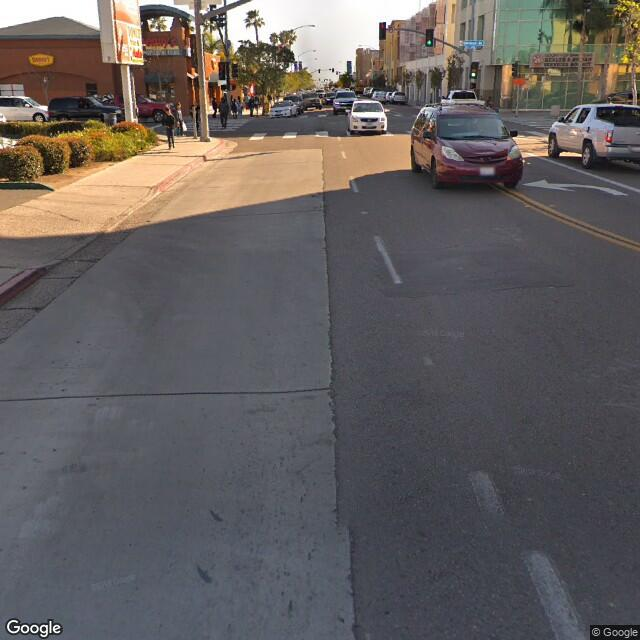road line: (361, 222, 422, 313)
